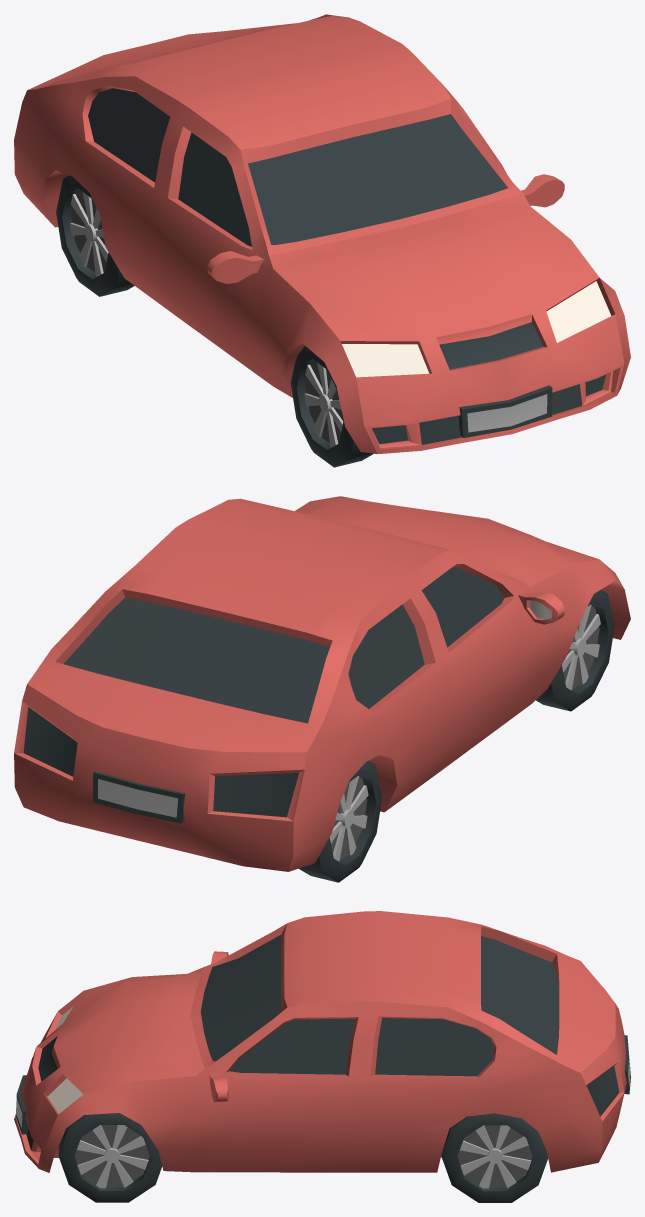
File: Car_01.fbx
3 views of the same model, one above another, from view 1: azimuth 30°, elevation 25°; view 2: azimuth 150°, elevation 25°; view 3: azimuth 270°, elevation 25° (orthographic). The views are drawn at different scales.
Parts seen in each view (by area): view 1: Car_01; view 2: Car_01; view 3: Car_01.
Boxes of the visible parts, box(x1,y1,x2,y2) form: Car_01: box(14, 14, 630, 467); Car_01: box(14, 496, 630, 882); Car_01: box(14, 911, 630, 1202).
Size of the model in its own units: 0.178 by 0.1145 by 0.3288.
